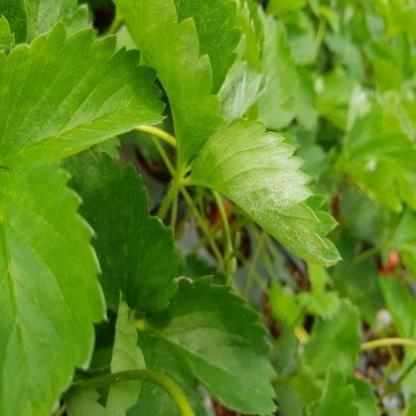Strawberry_Powdery_Mildew_Leaf: (182, 117, 344, 268), (333, 82, 415, 214)
